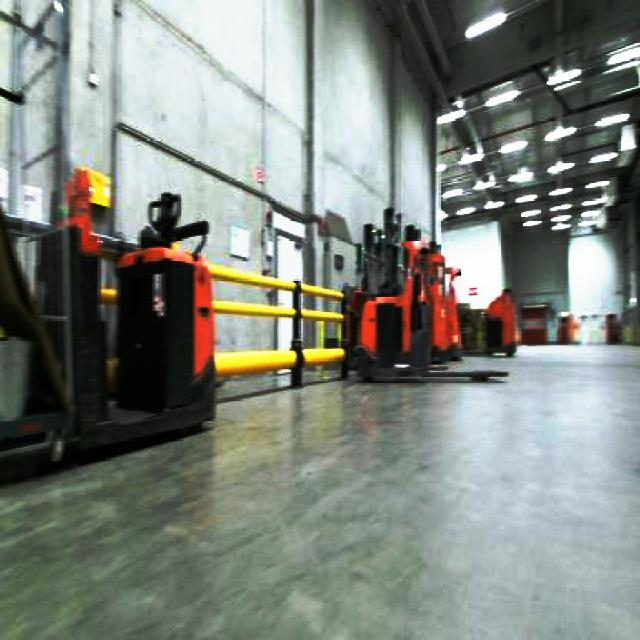ground: (0, 340, 638, 638)
